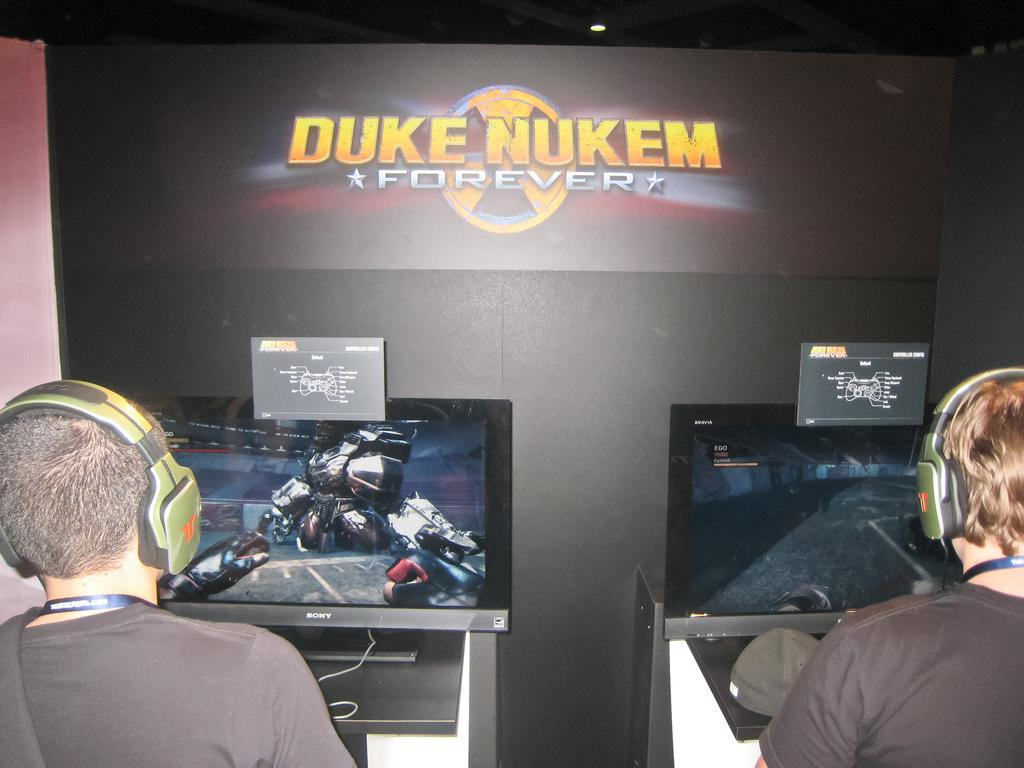Computer-monitor: (140, 392, 507, 687), (662, 396, 948, 644)
